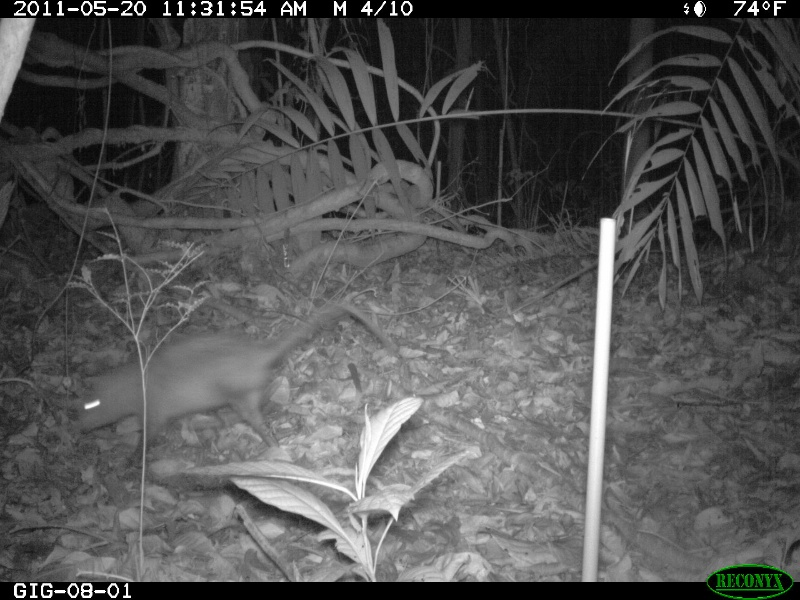opossum: (72, 296, 398, 466)
